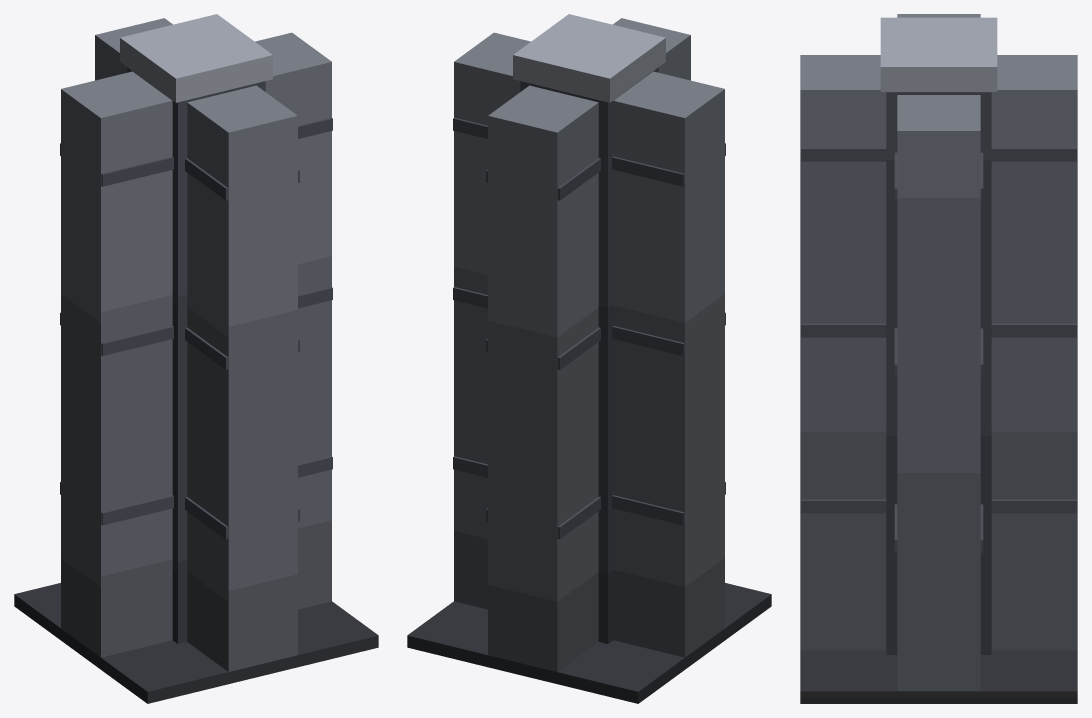
Rendered from model_45_iron_cross.glb.
3 renders of one model, left to right at view 1: azimuth 30°, elevation 25°; view 2: azimuth 150°, elevation 25°; view 3: azimuth 270°, elevation 25°, orthographic. The views are drawn at different scales.
Bounding box in the file's own units: 1 × 2.4 × 1.
1 material, 1 textured.
